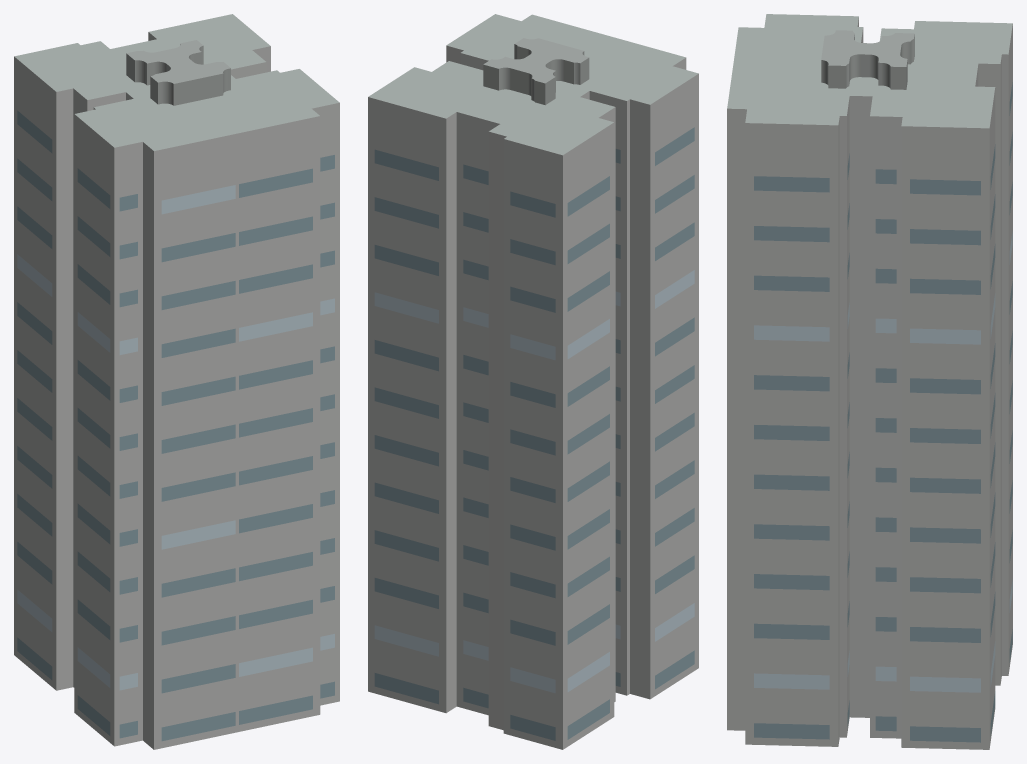
The model's file is fallback-sk-bukhansan-city-123.glb.
3 views of the same model, side by side, from view 1: azimuth 30°, elevation 25°; view 2: azimuth 150°, elevation 25°; view 3: azimuth 270°, elevation 25° (orthographic). The views are drawn at different scales.
Visible parts, largest first — view 1: fallback-sk-bukhansan-city-123; view 2: fallback-sk-bukhansan-city-123; view 3: fallback-sk-bukhansan-city-123.
Part boxes in pixels (x1,y1,x2,y2): fallback-sk-bukhansan-city-123: (14,14,339,749); fallback-sk-bukhansan-city-123: (368,14,698,749); fallback-sk-bukhansan-city-123: (727,14,1012,749).
Size of the model in its own units: 25.89 by 68 by 27.33.
